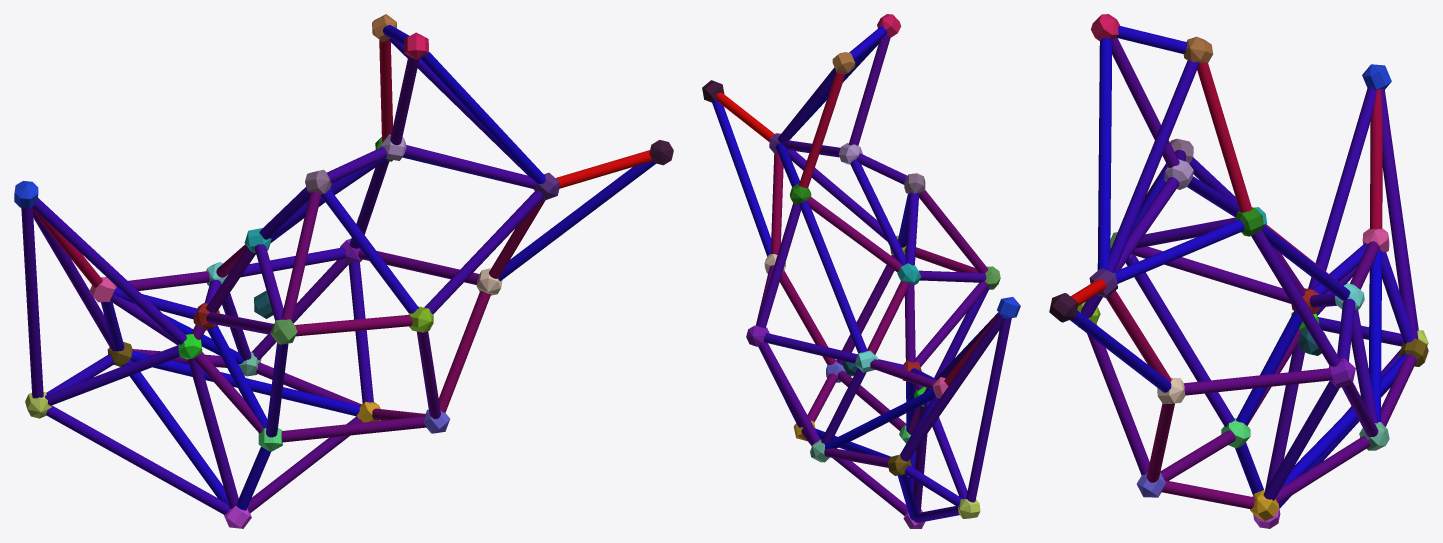
Rendered from fg-00030-skel.obj.
3 views of the same model, side by side, from view 1: azimuth 30°, elevation 25°; view 2: azimuth 150°, elevation 25°; view 3: azimuth 270°, elevation 25° (orthographic). The views are drawn at different scales.
Bounding box in the file's own units: 0.2068 × 0.2006 × 0.1218.
